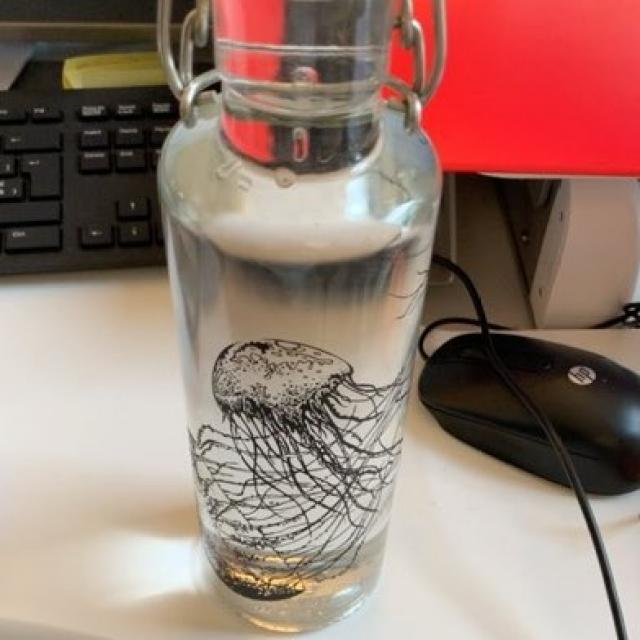water: (166, 128, 427, 587)
